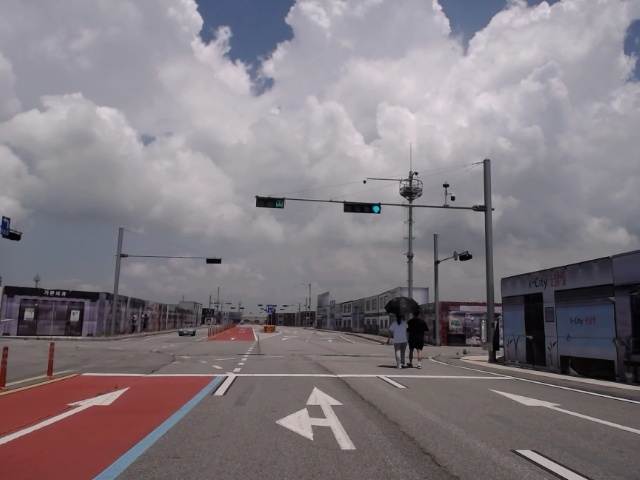straight_green_4: (344, 202, 380, 214)
